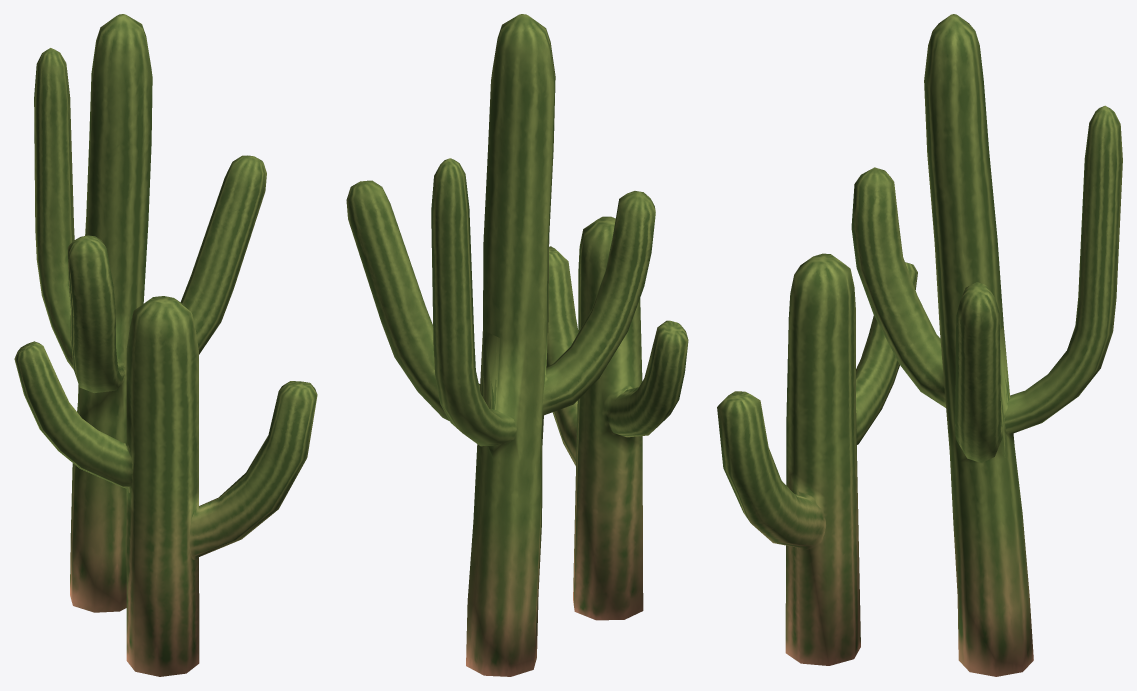
Rendered from obstacle3.glb.
The picture shows the model from 3 angles, left to right: view 1: azimuth 30°, elevation 25°; view 2: azimuth 150°, elevation 25°; view 3: azimuth 270°, elevation 25°; orthographic projection. The views are drawn at different scales.
Visible parts, largest first — view 1: cactus_9_cacturs_9_0, cactus_1_cacturs_1_0.001; view 2: cactus_9_cacturs_9_0, cactus_1_cacturs_1_0.001; view 3: cactus_9_cacturs_9_0, cactus_1_cacturs_1_0.001.
Part boxes in pixels (left/top/right/bottom): cactus_9_cacturs_9_0: left=34, top=14, right=266, bottom=612; cactus_1_cacturs_1_0.001: left=14, top=296, right=317, bottom=676; cactus_9_cacturs_9_0: left=346, top=14, right=655, bottom=676; cactus_1_cacturs_1_0.001: left=546, top=216, right=688, bottom=620; cactus_9_cacturs_9_0: left=851, top=14, right=1122, bottom=676; cactus_1_cacturs_1_0.001: left=717, top=253, right=917, bottom=665.
Size of the model in its own units: 2.05 by 4.12 by 2.35.
Materials: 2 (2 with a texture image).
